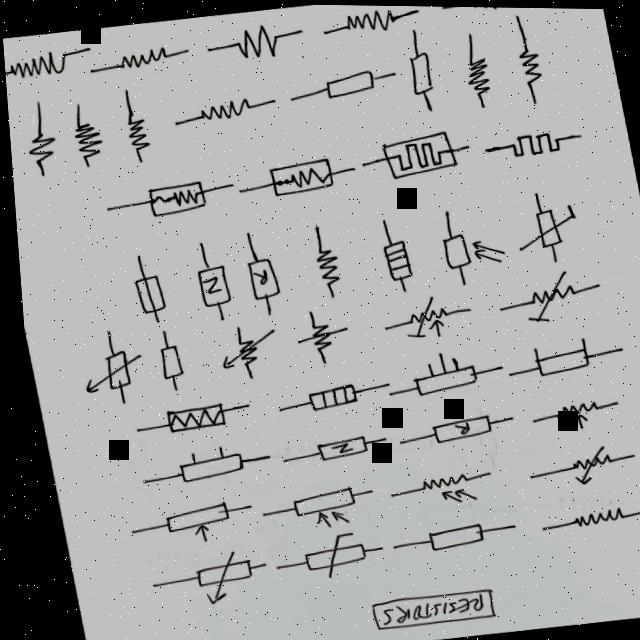resistor: (135, 431, 252, 496), (378, 457, 493, 519), (164, 541, 259, 616), (387, 337, 489, 403), (126, 494, 240, 550), (367, 121, 468, 184), (492, 263, 591, 325), (418, 214, 511, 276), (249, 148, 345, 207), (128, 390, 235, 441), (262, 480, 362, 532), (123, 169, 217, 224), (517, 332, 607, 389), (197, 312, 273, 379), (374, 292, 468, 346), (507, 193, 580, 259), (75, 335, 141, 406), (296, 57, 392, 105), (486, 121, 585, 167), (543, 437, 627, 491), (177, 85, 270, 132), (215, 14, 293, 69), (2, 41, 88, 90), (283, 527, 362, 580), (410, 406, 499, 453), (228, 241, 289, 309), (102, 37, 190, 84), (287, 296, 348, 362), (287, 368, 368, 415), (527, 391, 613, 435), (179, 245, 233, 314), (548, 495, 627, 540), (504, 30, 557, 97), (56, 98, 104, 170), (290, 427, 374, 467), (118, 257, 170, 321), (407, 515, 484, 558), (12, 109, 63, 172), (453, 37, 499, 106), (401, 32, 444, 105), (366, 221, 413, 287), (304, 233, 352, 297), (333, 4, 411, 42), (108, 101, 151, 158), (144, 334, 188, 382), (442, 5, 533, 19)
